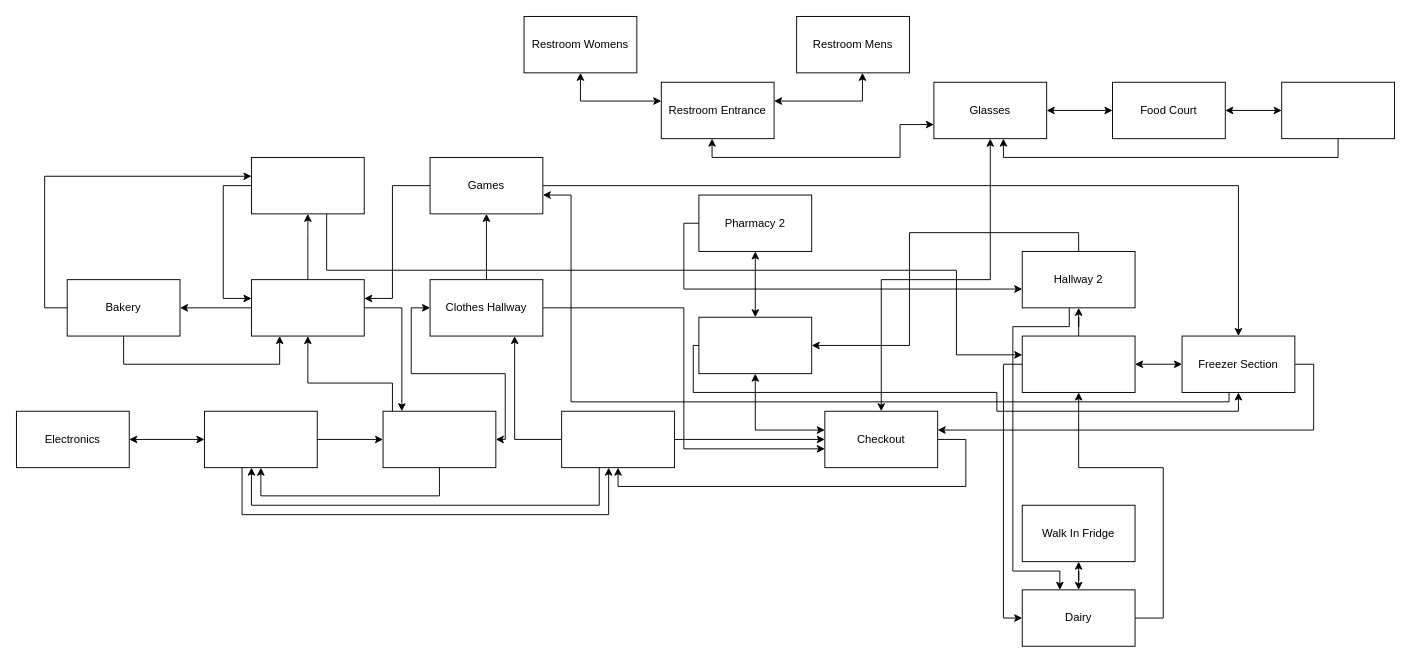
Image size: 1411x663. Some labels were removed from this diagram. Each missing label, with the centre of its shape:
"Couch" goes at pixel 617 439.
"Entrance to Meat Section" goes at pixel 307 307.
"Exit" goes at pixel 1337 110.
"Hallway 1" goes at pixel 439 439.
"Jewelry" goes at pixel 260 439.
"Meat" goes at pixel 307 185.
"Pharmacy" goes at pixel 755 345.
"Toilet Paper" goes at pixel 1078 363.
